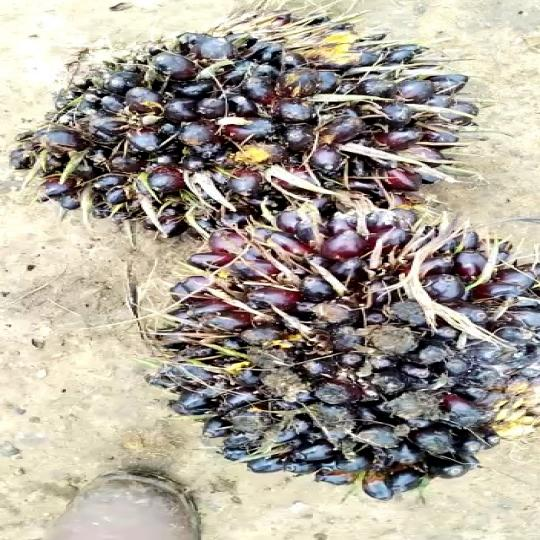mentah: (158, 204, 540, 492), (19, 25, 467, 230)
